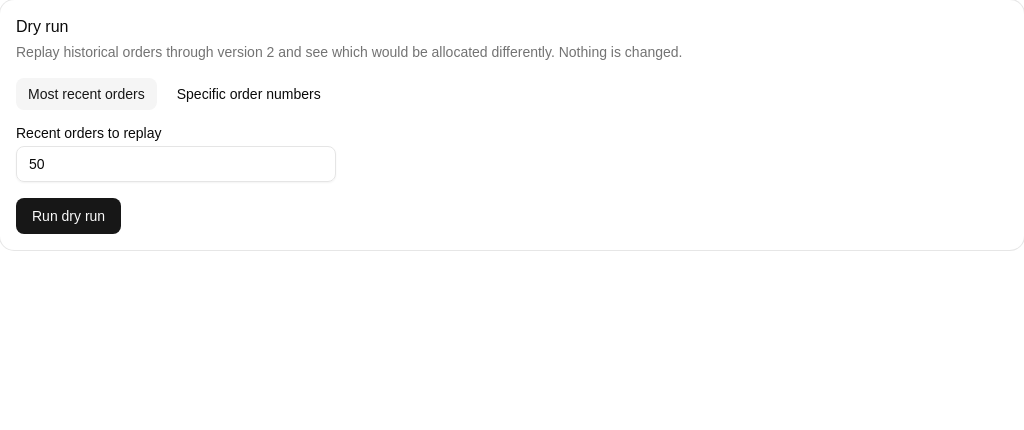
Test: DryRunPanel › replays recent orders and highlights the changed rows
Click the button "Run dry run". click: point(69, 216)
box: [16,198,121,234]
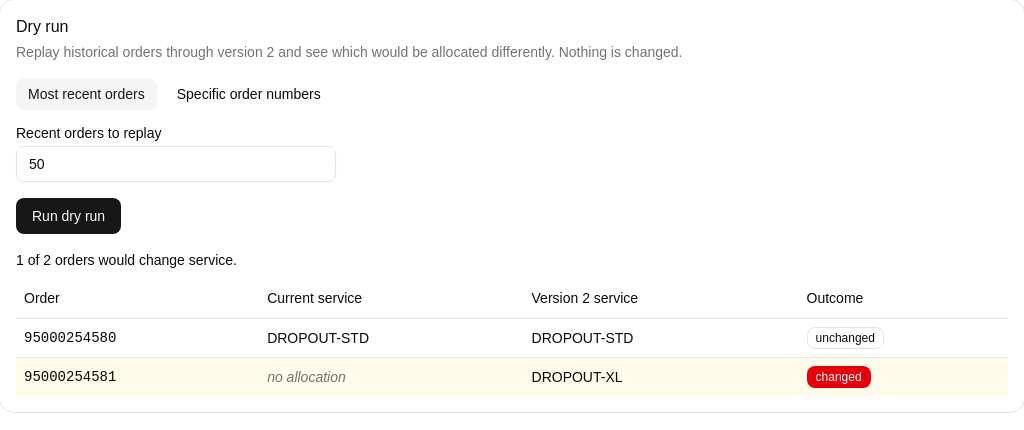
Check: the text "1 of 2 orders would change service." is shown, box [16,252,237,268]
